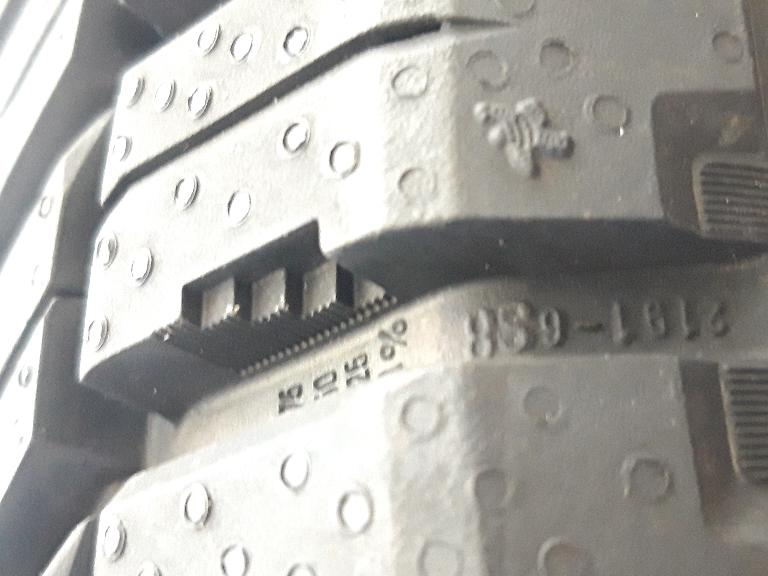temoin:100: (144, 209, 407, 386)
